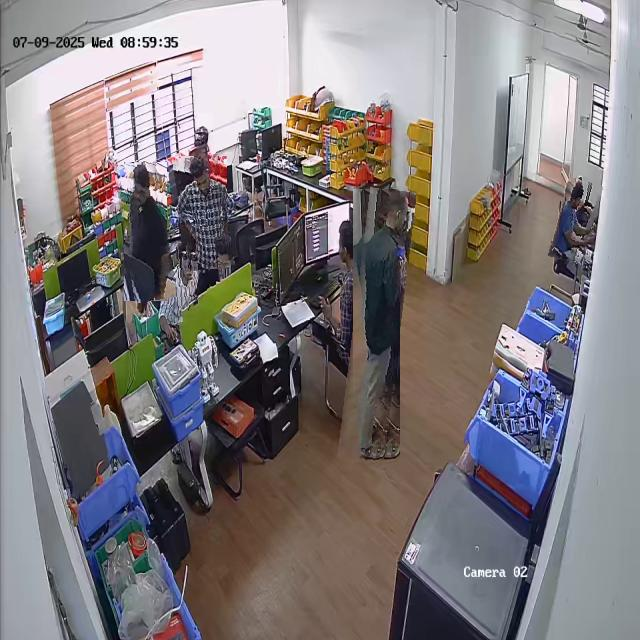person: (345, 188, 408, 463), (119, 161, 172, 302), (177, 155, 231, 270), (162, 241, 212, 322), (554, 178, 598, 264)
